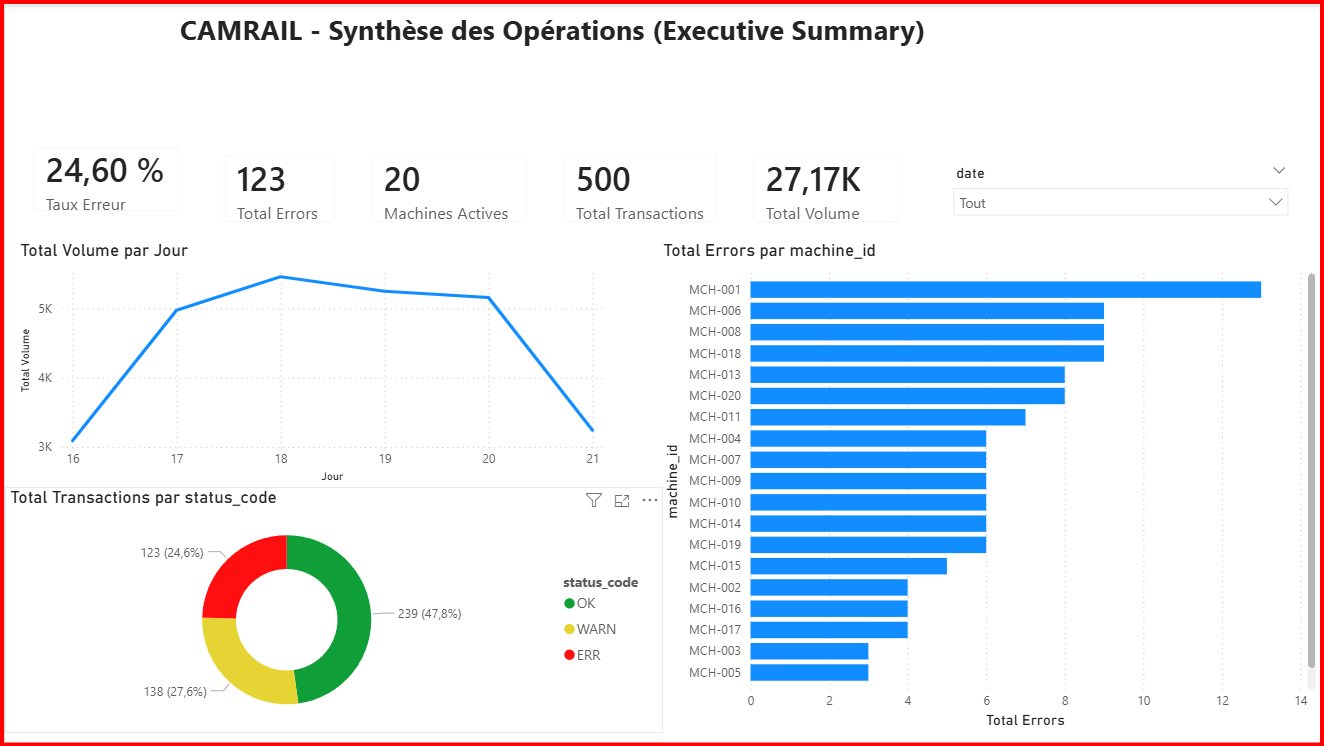

This screenshot's page, from the dashboard's own definition file:
{"tool":"powerbi","page":{"name":"01 - Vue Executive","canvas":[1280,720],"ordinal":0},"visuals":[{"type":"cardVisual","fields":{"Data":["_Mesures.Total Volume"]},"box":[710,128.4,177,100.2],"z":0},{"type":"cardVisual","fields":{"Data":["_Mesures.Total Errors"]},"box":[195.5,128.4,143,100.2],"z":1000},{"type":"cardVisual","fields":{"Data":["_Mesures.Machines Actives"]},"box":[338.5,128.4,186.7,100.2],"z":2000},{"type":"cardVisual","fields":{"Data":["_Mesures.Total Transactions"]},"box":[525.2,128.4,184.8,100.2],"z":3000},{"type":"cardVisual","fields":{"Data":["_Mesures.Taux Erreur"]},"box":[9.7,121.6,177,96.3],"z":4000},{"type":"lineChart","fields":{"Category":["erp_daily_transactions.date.Variation.Hiérarchie de dates.Année","erp_daily_transactions.date.Variation.Hiérarchie de dates.Trimestre","erp_daily_transactions.date.Variation.Hiérarchie de dates.Mois","erp_daily_transactions.date.Variation.Hiérarchie de dates.Jour"],"Y":["_Mesures.Total Volume"]},"box":[9.7,228.6,576.8,240.2],"z":5000},{"type":"clusteredBarChart","fields":{"Category":["erp_daily_transactions.machine_id"],"Y":["_Mesures.Total Errors"]},"box":[635.1,228.6,644.9,479.5],"z":6000},{"type":"donutChart","fields":{"Category":["erp_daily_transactions.status_code"],"Y":["_Mesures.Total Transactions"]},"box":[0,468.8,640,239.3],"z":7000},{"type":"textbox","box":[161.5,0,965.8,55.4],"z":8000},{"type":"slicer","fields":{"Values":["erp_daily_transactions.date"]},"box":[912.3,149.8,346.3,68.1],"z":9000}]}

Visuals, with their boxes in screenshot pixels (x1, y1, x2, y2), scaled from the page's 1280x720 canvas onto the 1324x746 screenshot:
cardVisual - _Mesures.Total Volume: bbox=[734, 133, 917, 237]
cardVisual - _Mesures.Total Errors: bbox=[202, 133, 350, 237]
cardVisual - _Mesures.Machines Actives: bbox=[350, 133, 543, 237]
cardVisual - _Mesures.Total Transactions: bbox=[543, 133, 734, 237]
cardVisual - _Mesures.Taux Erreur: bbox=[10, 126, 193, 226]
lineChart - erp_daily_transactions.date.Variation.Hiérarchie de dates.Année x erp_daily_transactions.date.Variation.Hiérarchie de dates.Trimestre: bbox=[10, 237, 607, 486]
clusteredBarChart - erp_daily_transactions.machine_id x _Mesures.Total Errors: bbox=[657, 237, 1323, 734]
donutChart - erp_daily_transactions.status_code x _Mesures.Total Transactions: bbox=[0, 486, 662, 734]
textbox: bbox=[167, 0, 1166, 57]
slicer - erp_daily_transactions.date: bbox=[944, 155, 1302, 226]
